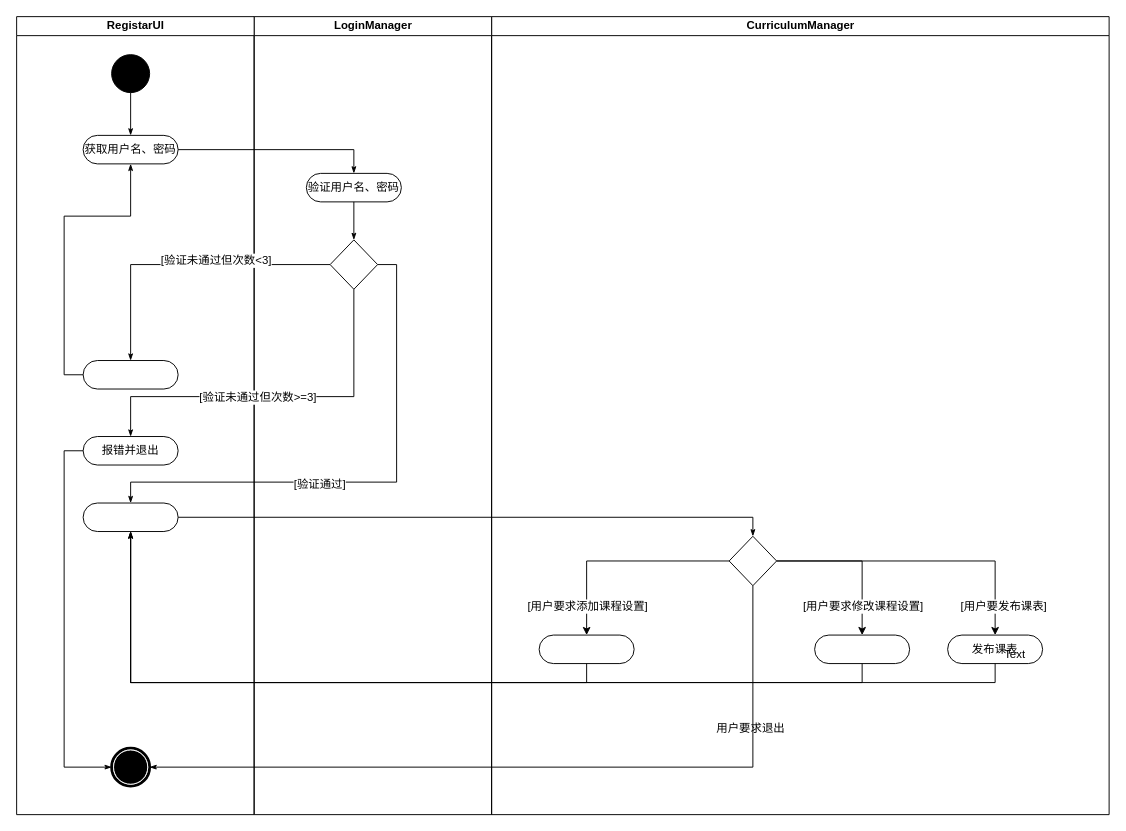
Some shapes in this 1126 by 831 pixel diagram are drawn without their labels. The centre of each missing label's shape, as x and y in pixels:
"修改课程设置" goes at (862,649).
"报错并要求用户重新输入" goes at (130,374).
"添加课程设置" goes at (586,649).
"获取用户命令" goes at (130,517).
